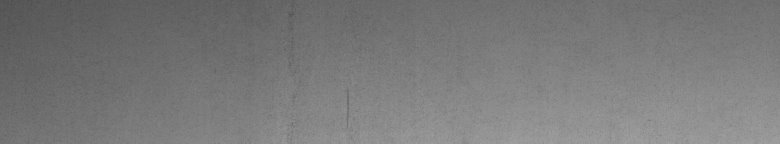ib: (289, 13, 354, 120)
